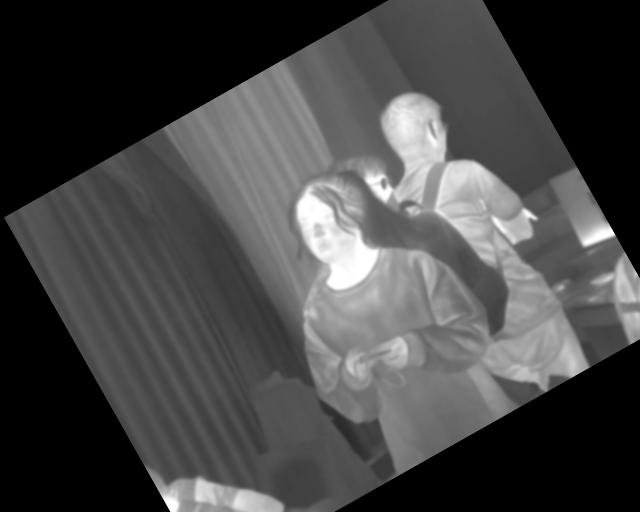face: (274, 157, 387, 272)
